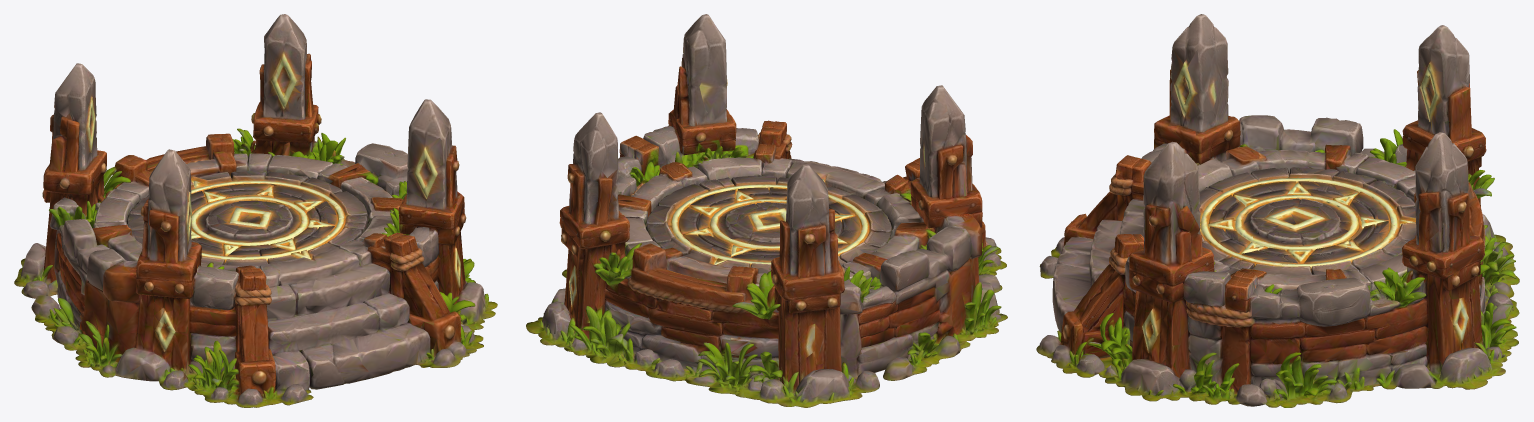
File: Runestone_Altar.glb
The picture shows the model from 3 angles, left to right: view 1: azimuth 30°, elevation 25°; view 2: azimuth 150°, elevation 25°; view 3: azimuth 270°, elevation 25°; orthographic projection. The views are drawn at different scales.
Parts seen in each view (by area): view 1: Runestone_Altar; view 2: Runestone_Altar; view 3: Runestone_Altar.
Boxes of the visible parts, <box> form: Runestone_Altar: <box>14,14,497,407</box>; Runestone_Altar: <box>526,14,1007,407</box>; Runestone_Altar: <box>1036,14,1519,407</box>.
Size of the model in its own units: 1.89 by 0.9782 by 1.88.
1 material, 1 textured.
